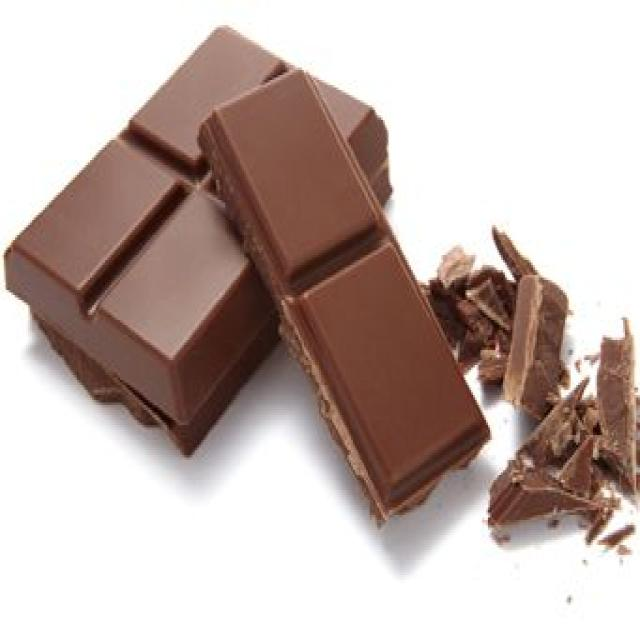Chocolate: (7, 20, 394, 461), (196, 61, 493, 531)
